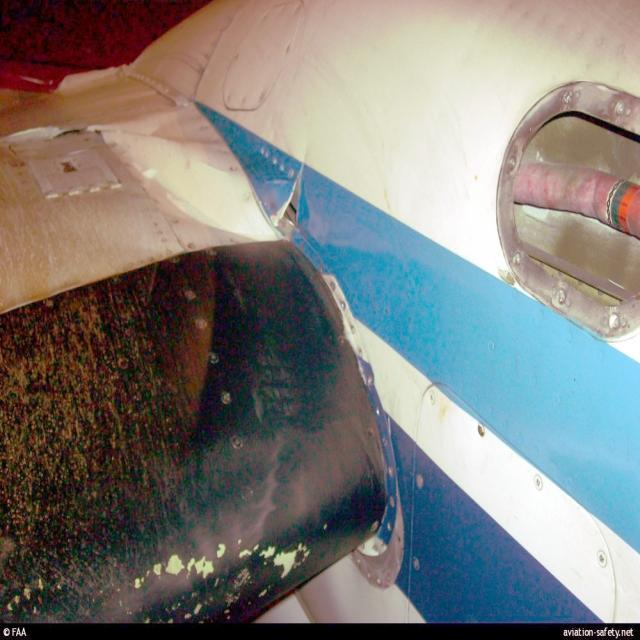crack: (274, 157, 313, 231)
